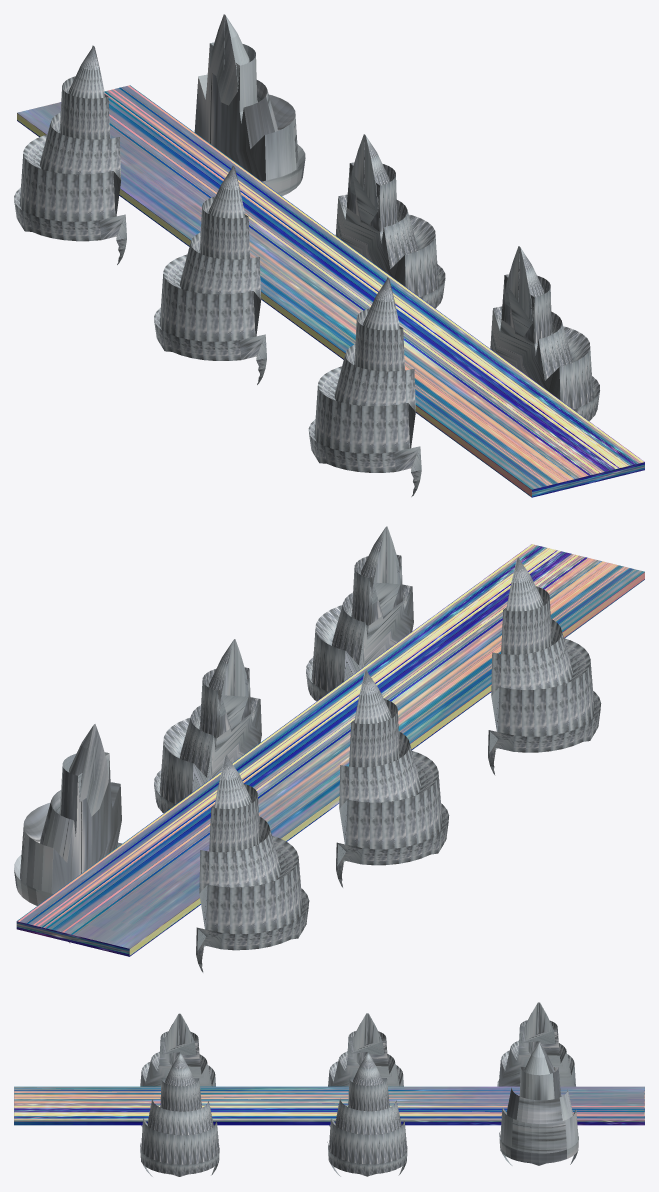
Rendered from bridge.obj.
3 renders of one model, top to bottom at view 1: azimuth 30°, elevation 25°; view 2: azimuth 150°, elevation 25°; view 3: azimuth 270°, elevation 25°, orthographic. The views are drawn at different scales.
Visible parts, largest first — view 1: Bridge_road_Cube_Cube.001_Cube_Cube.001_bridge, Pillar_5_Cube.001_Cube.005_Cube.001_Cube.005_None, Pillar_1_Cube.001_Cube.000, Pillar3_Cube.004_Cube.009_Cube.004_Cube.009_None, Pillar_2_Cube.002_Cube.000, Pillar_6_Cube.002_Cube.007, Pillar_4_Cube.003_Cube.008_Cube.003_Cube.008_None; view 2: Bridge_road_Cube_Cube.001_Cube_Cube.001_bridge, Pillar_1_Cube.001_Cube.000, Pillar3_Cube.004_Cube.009_Cube.004_Cube.009_None, Pillar_5_Cube.001_Cube.005_Cube.001_Cube.005_None, Pillar_2_Cube.002_Cube.000, Pillar_6_Cube.002_Cube.007, Pillar_4_Cube.003_Cube.008_Cube.003_Cube.008_None; view 3: Bridge_road_Cube_Cube.001_Cube_Cube.001_bridge, Pillar_4_Cube.003_Cube.008_Cube.003_Cube.008_None, Pillar_6_Cube.002_Cube.007, Pillar_2_Cube.002_Cube.000, Pillar_1_Cube.001_Cube.000, Pillar3_Cube.004_Cube.009_Cube.004_Cube.009_None, Pillar_5_Cube.001_Cube.005_Cube.001_Cube.005_None.
Part boxes in pixels (x1,y1,x2,y2): Bridge_road_Cube_Cube.001_Cube_Cube.001_bridge: (17, 85, 644, 497); Pillar_5_Cube.001_Cube.005_Cube.001_Cube.005_None: (308, 277, 421, 496); Pillar_1_Cube.001_Cube.000: (14, 45, 126, 264); Pillar3_Cube.004_Cube.009_Cube.004_Cube.009_None: (154, 165, 266, 384); Pillar_2_Cube.002_Cube.000: (194, 14, 305, 196); Pillar_6_Cube.002_Cube.007: (490, 246, 599, 420); Pillar_4_Cube.003_Cube.008_Cube.003_Cube.008_None: (335, 134, 445, 308); Bridge_road_Cube_Cube.001_Cube_Cube.001_bridge: (16, 544, 644, 956); Pillar_1_Cube.001_Cube.000: (196, 755, 309, 972); Pillar3_Cube.004_Cube.009_Cube.004_Cube.009_None: (336, 670, 449, 887); Pillar_5_Cube.001_Cube.005_Cube.001_Cube.005_None: (488, 557, 601, 775); Pillar_2_Cube.002_Cube.000: (14, 724, 121, 943); Pillar_6_Cube.002_Cube.007: (306, 526, 413, 701); Pillar_4_Cube.003_Cube.008_Cube.003_Cube.008_None: (154, 639, 261, 813); Bridge_road_Cube_Cube.001_Cube_Cube.001_bridge: (14, 1086, 644, 1125); Pillar_4_Cube.003_Cube.008_Cube.003_Cube.008_None: (327, 1053, 407, 1176); Pillar_6_Cube.002_Cube.007: (140, 1053, 219, 1176); Pillar_2_Cube.002_Cube.000: (499, 1042, 578, 1165); Pillar_1_Cube.001_Cube.000: (497, 1002, 575, 1086); Pillar3_Cube.004_Cube.009_Cube.004_Cube.009_None: (328, 1013, 403, 1126); Pillar_5_Cube.001_Cube.005_Cube.001_Cube.005_None: (140, 1013, 215, 1127).
Bounding box in the file's own units: 4.91 × 3.75 × 15.78.
2 materials, 2 textured.
